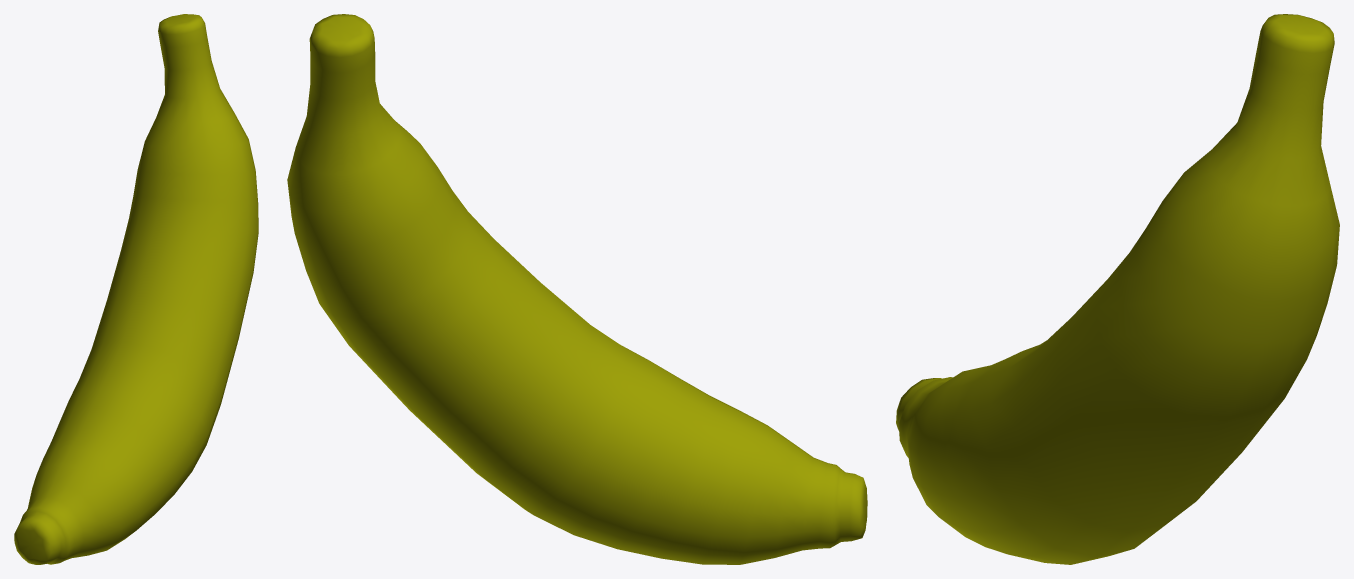
File: PKG-Banana.fbx
3 renders of one model, left to right at view 1: azimuth 30°, elevation 25°; view 2: azimuth 150°, elevation 25°; view 3: azimuth 270°, elevation 25°, orthographic. The views are drawn at different scales.
Parts seen in each view (by area): view 1: pCylinder86; view 2: pCylinder86; view 3: pCylinder86.
Part boxes in pixels (bbox=[...]): pCylinder86: bbox=[14, 14, 258, 564]; pCylinder86: bbox=[287, 14, 867, 564]; pCylinder86: bbox=[896, 14, 1339, 564].
Size of the model in its own units: 1.9 by 2.34 by 1.44.
